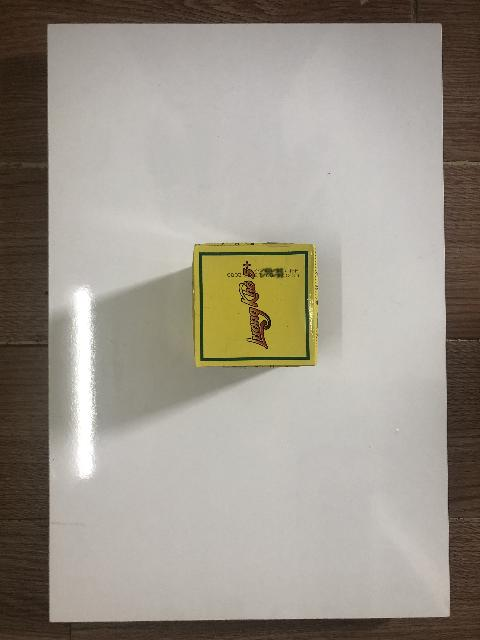luong_kho: (191, 243, 318, 367)
